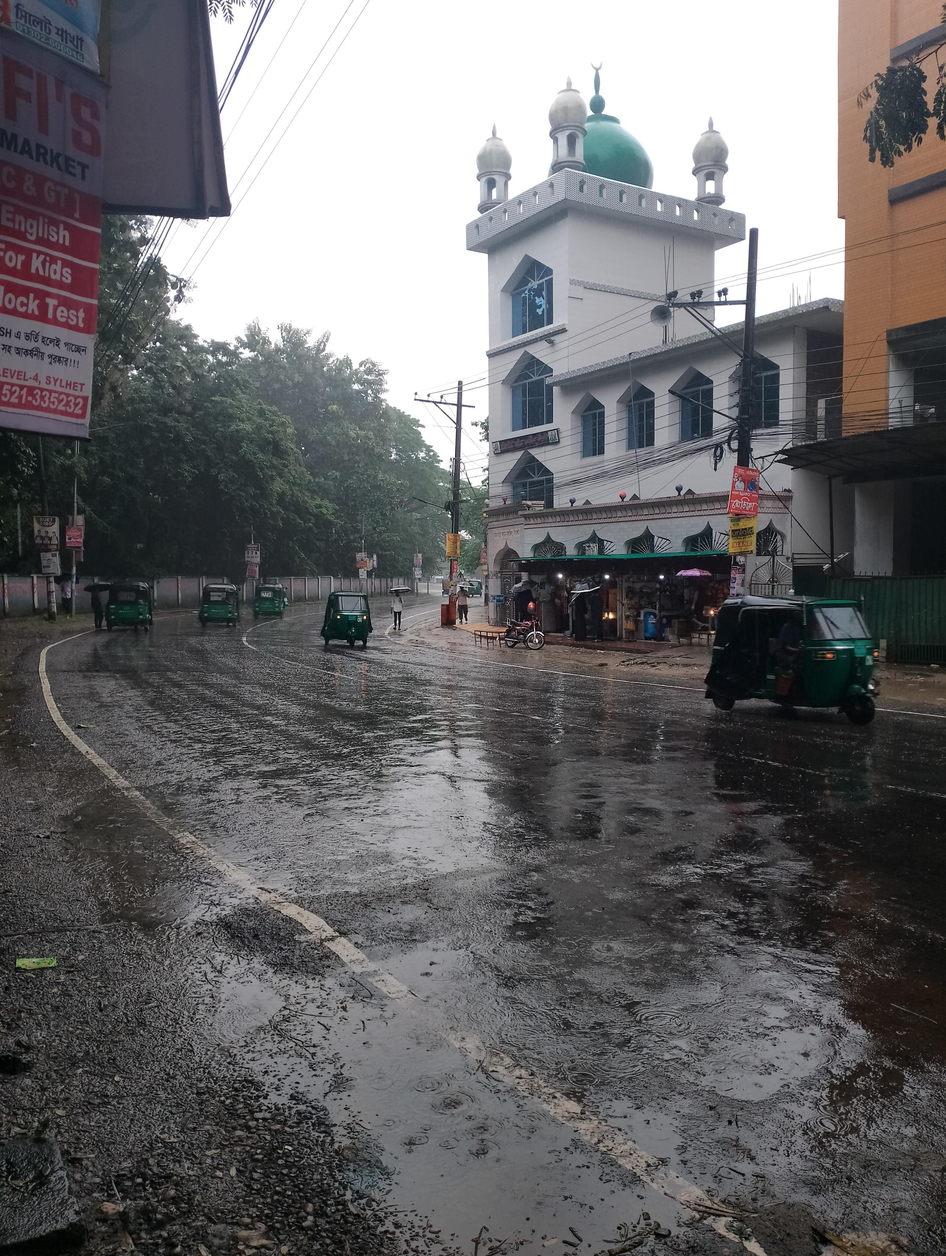Bike: (494, 605, 552, 657)
